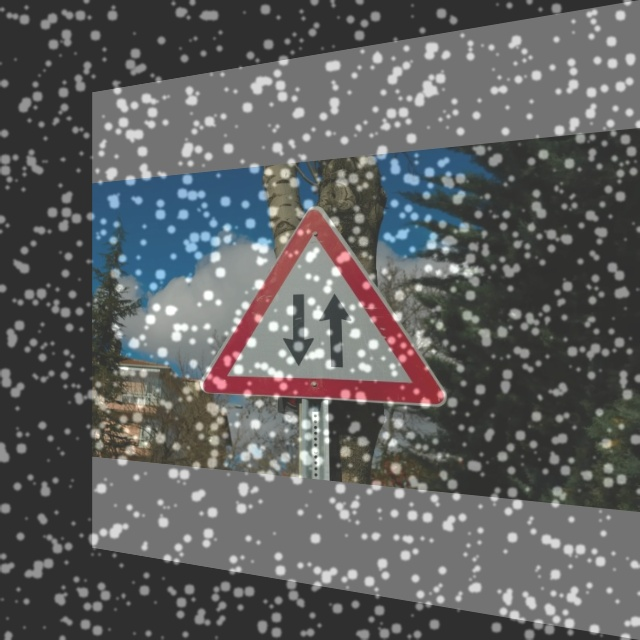Mandatory_Two_Way_Traffic: (201, 197, 447, 411)
